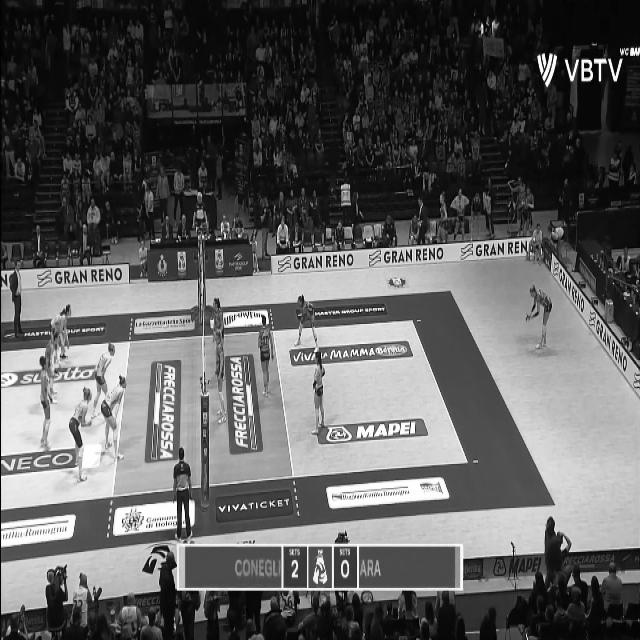volleyball court: (0, 318, 468, 511)
